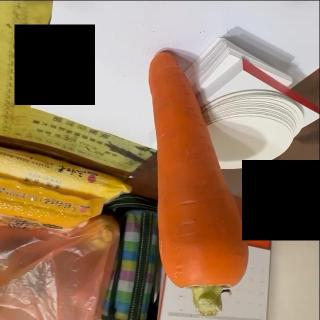carrot: (148, 50, 251, 318)
